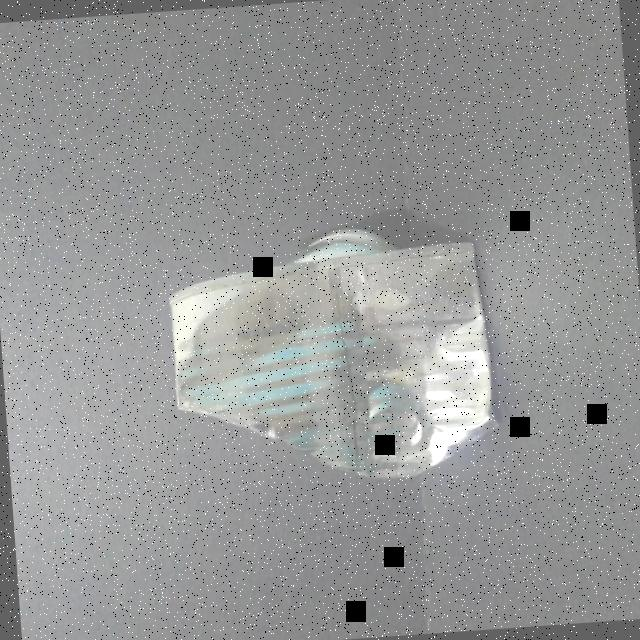can: (159, 212, 502, 498)
